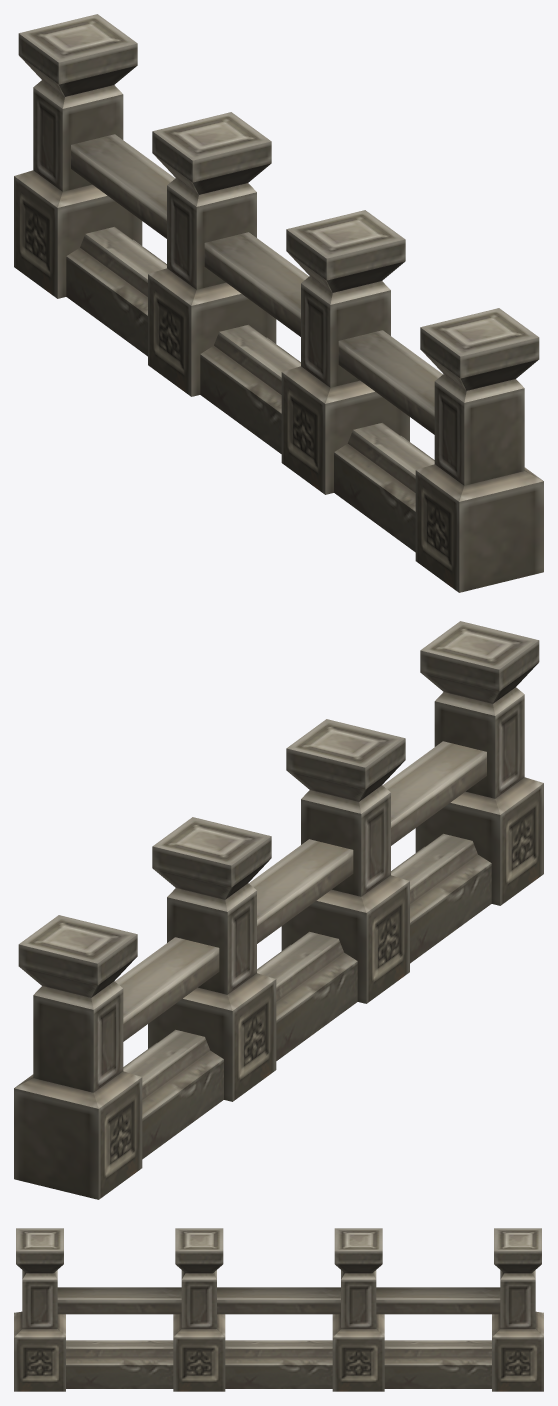
File: Obj_Weilan.FBX
The picture shows the model from 3 angles, top to bottom: view 1: azimuth 30°, elevation 25°; view 2: azimuth 150°, elevation 25°; view 3: azimuth 270°, elevation 25°; orthographic projection. The views are drawn at different scales.
Visible parts, largest first — view 1: Obj_Weilan01; view 2: Obj_Weilan01; view 3: Obj_Weilan01.
Boxes of the visible parts, x1,y1,x2,y2 form: Obj_Weilan01: (14,14,543,592); Obj_Weilan01: (14,621,543,1199); Obj_Weilan01: (14,1228,543,1391).
Size of the model in its own units: 0.9144 by 2.41 by 8.31.
